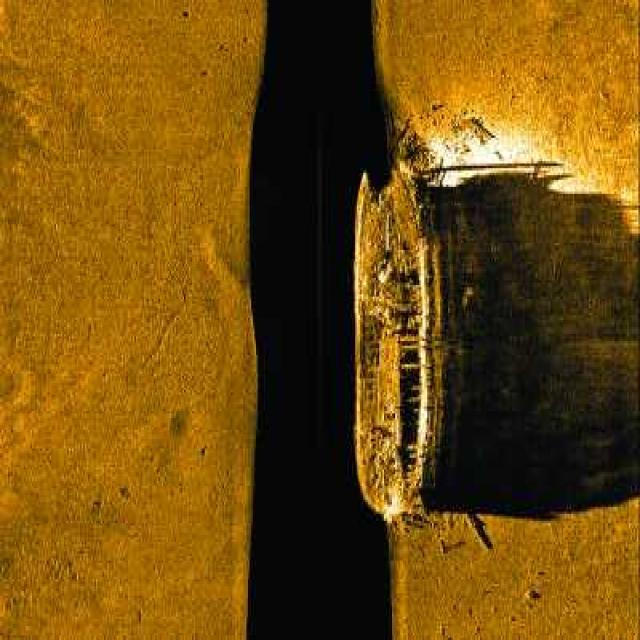shipwreck: (354, 159, 442, 521)
